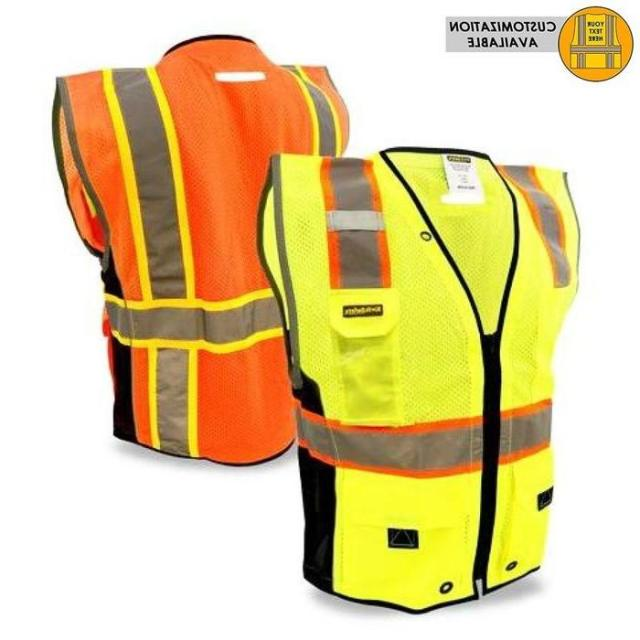Reflective-Jacket: (255, 131, 595, 619), (40, 31, 367, 473)
